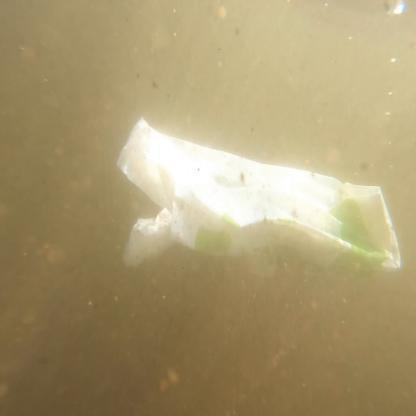Rác: (121, 115, 404, 296)
